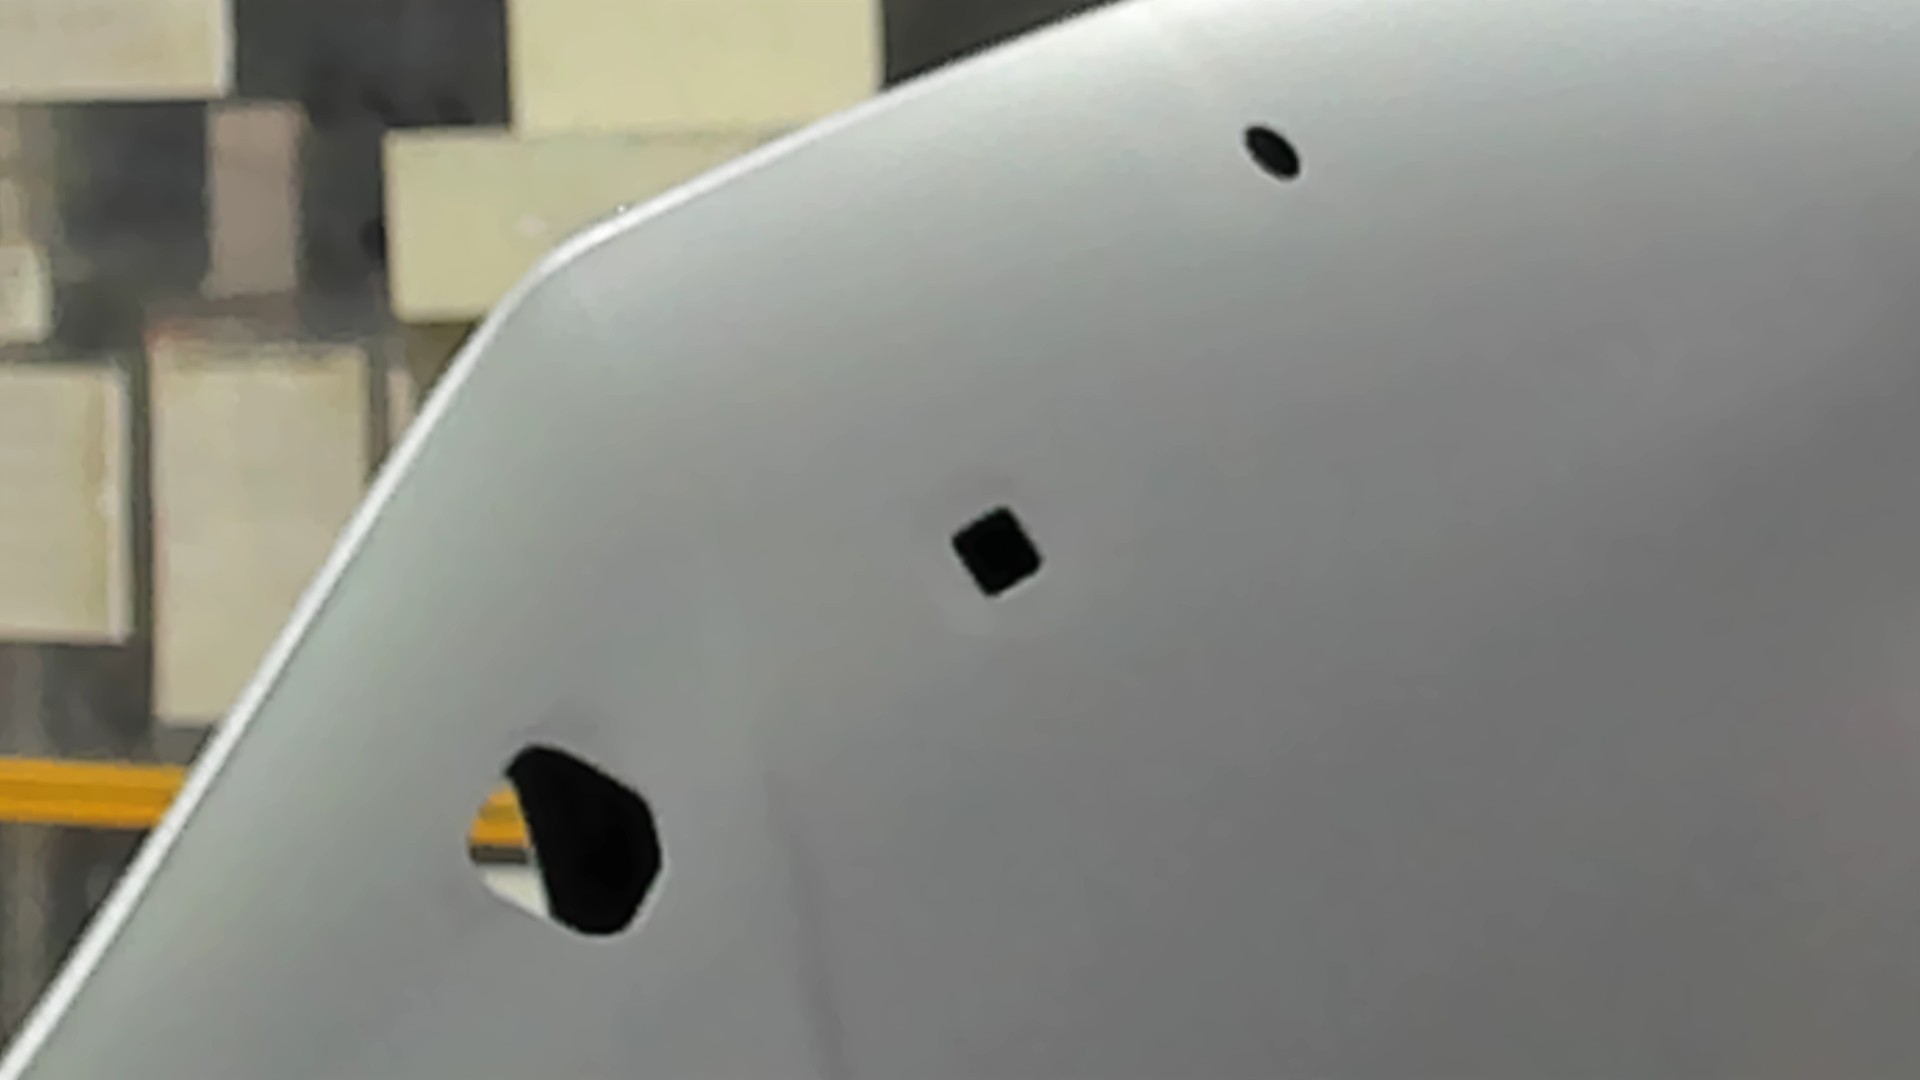chico: (1236, 115, 1305, 186)
grande: (460, 735, 670, 947)
mediano: (945, 500, 1044, 607)
